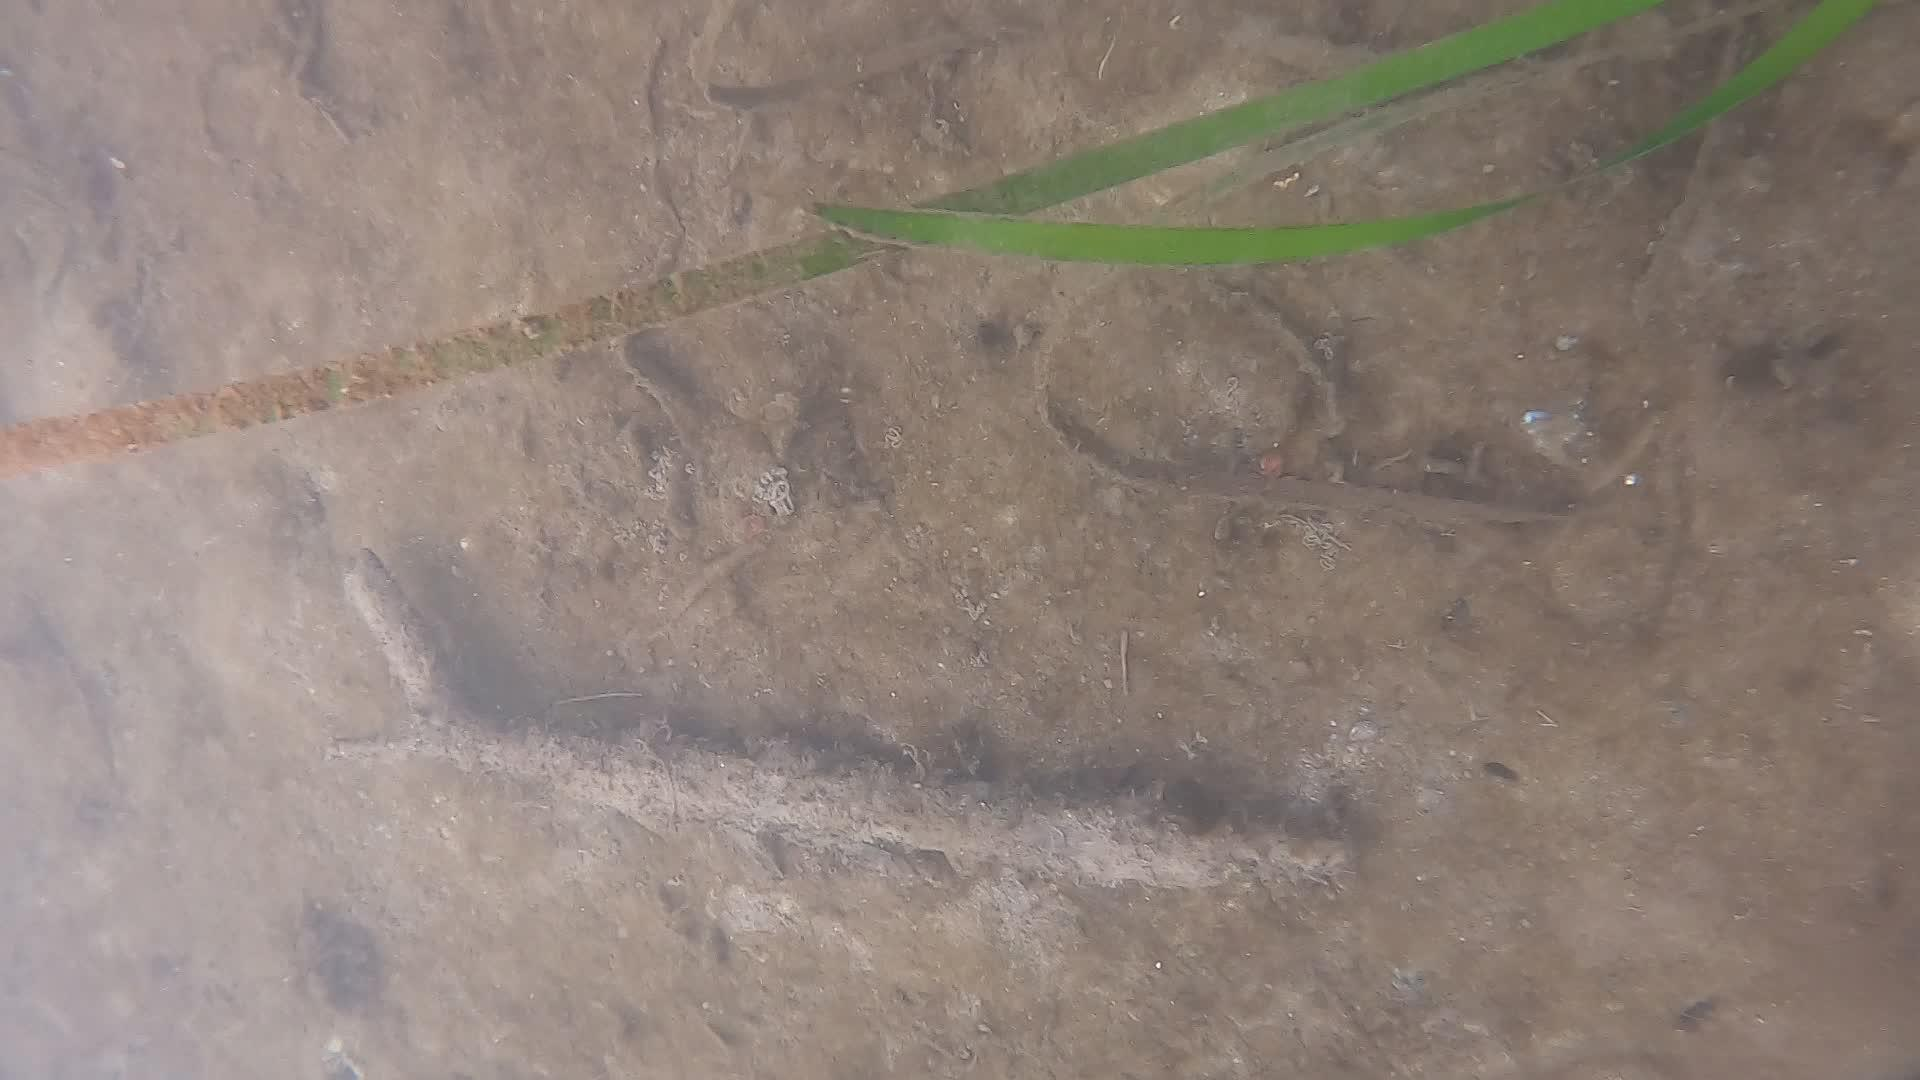wood: (320, 549, 1358, 891)
